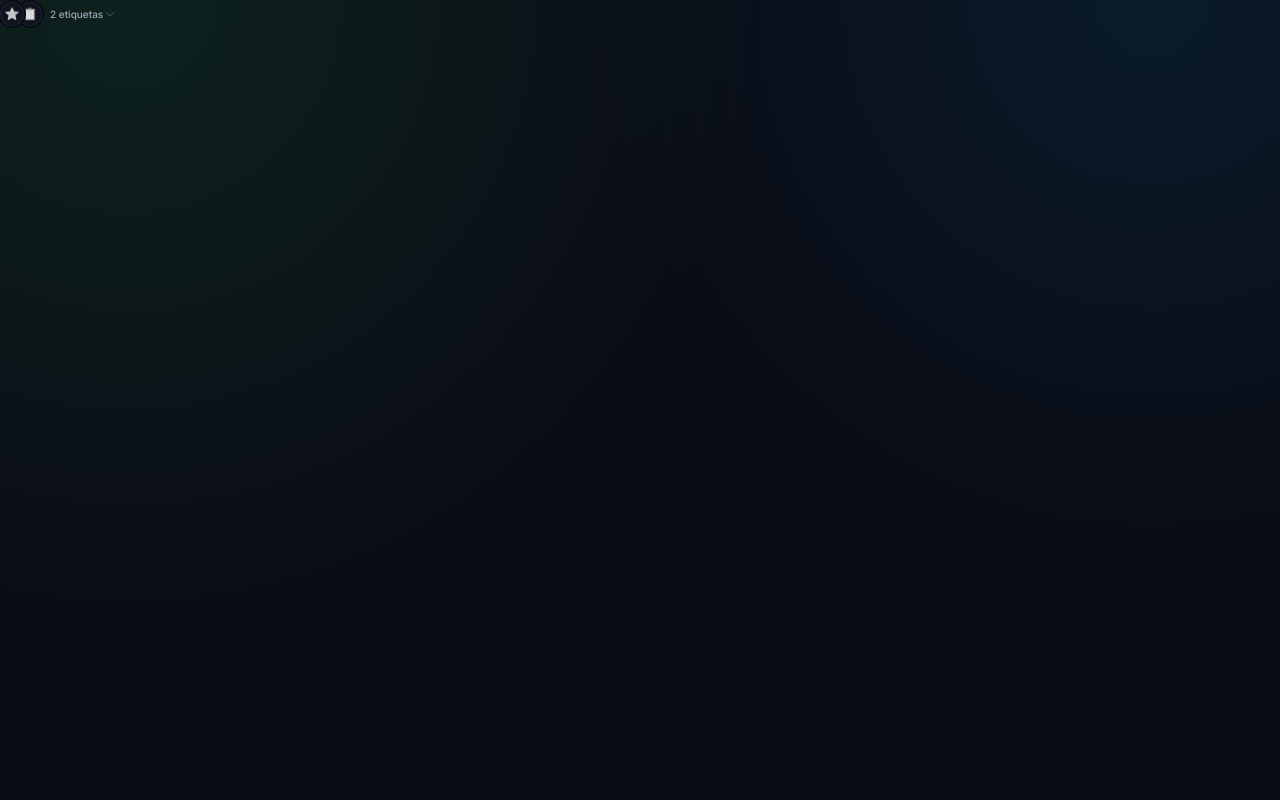
Test: StackedTagsBadge & Monochromatic Standard › opens popover card when clicked and triggers tag callbacks
Later steps or results of the test are not shown.
Click the element with class "cursor-pointer": [58, 14] box [0,2,115,26]
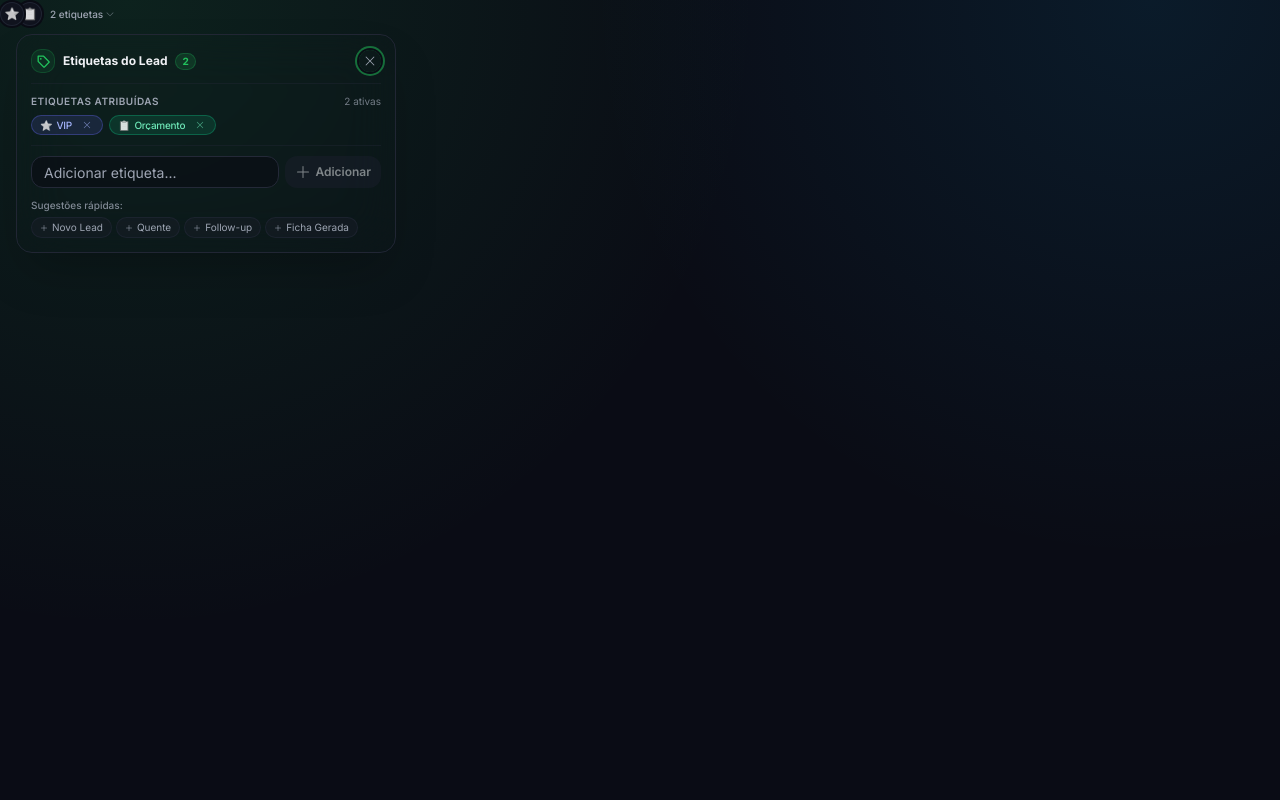
Now the text "Etiquetas do Lead" is shown, box [63,53,168,69]
Now the text "Etiquetas Atribuídas" is shown, box [31,94,159,109]
Now the button "Follow-up" is shown
Click the button "Follow-up": [223, 228] box [184,217,261,238]
Now the button named "Remover etiqueta VIP" is shown, box [80,118,94,132]
